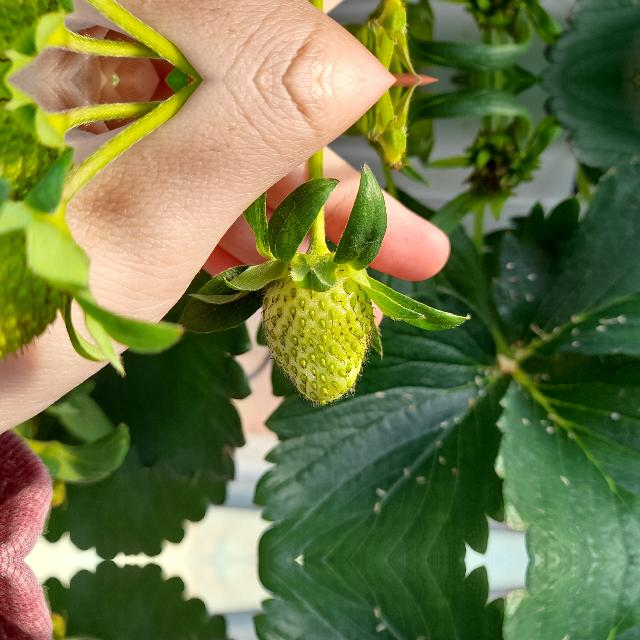Health_25: (260, 261, 374, 407)
